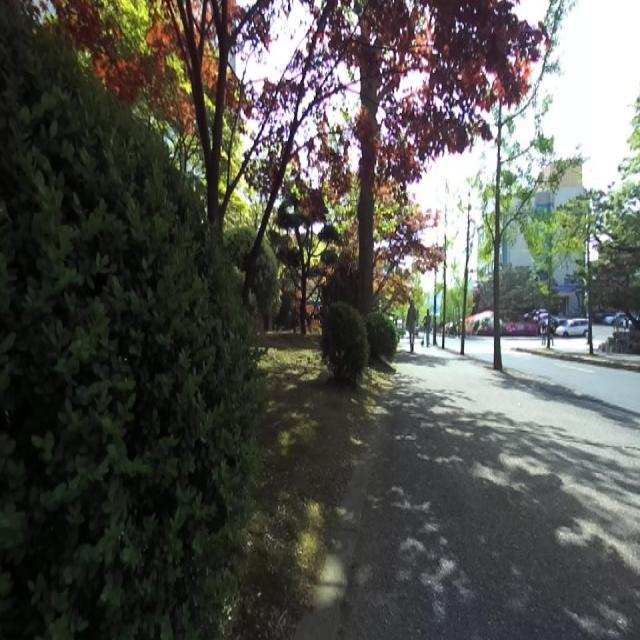sidewalk: (338, 348, 640, 639)
